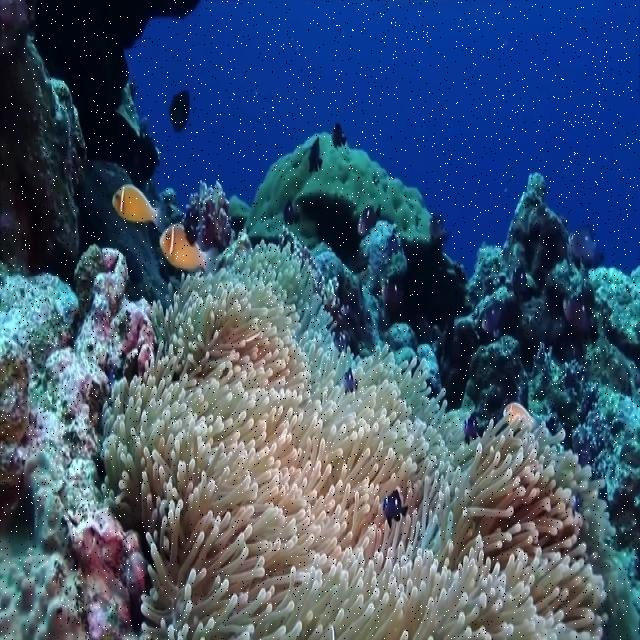fish: (159, 224, 218, 274), (112, 185, 166, 231)
reefs: (97, 240, 639, 639)
sea-floor: (226, 135, 639, 608), (0, 248, 156, 638), (0, 1, 199, 303)
